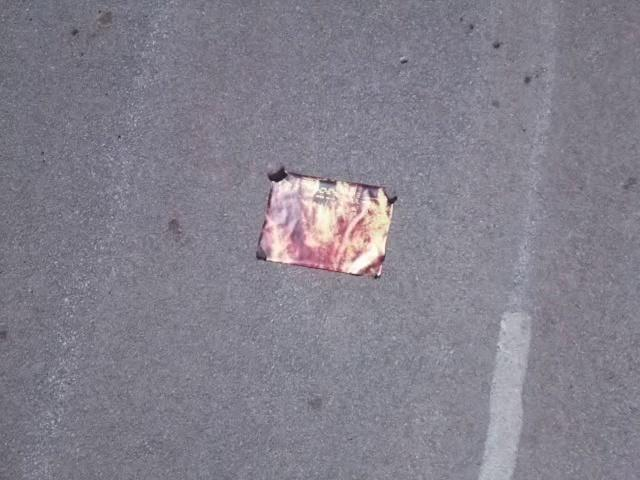fire-poster: (253, 163, 398, 281)
